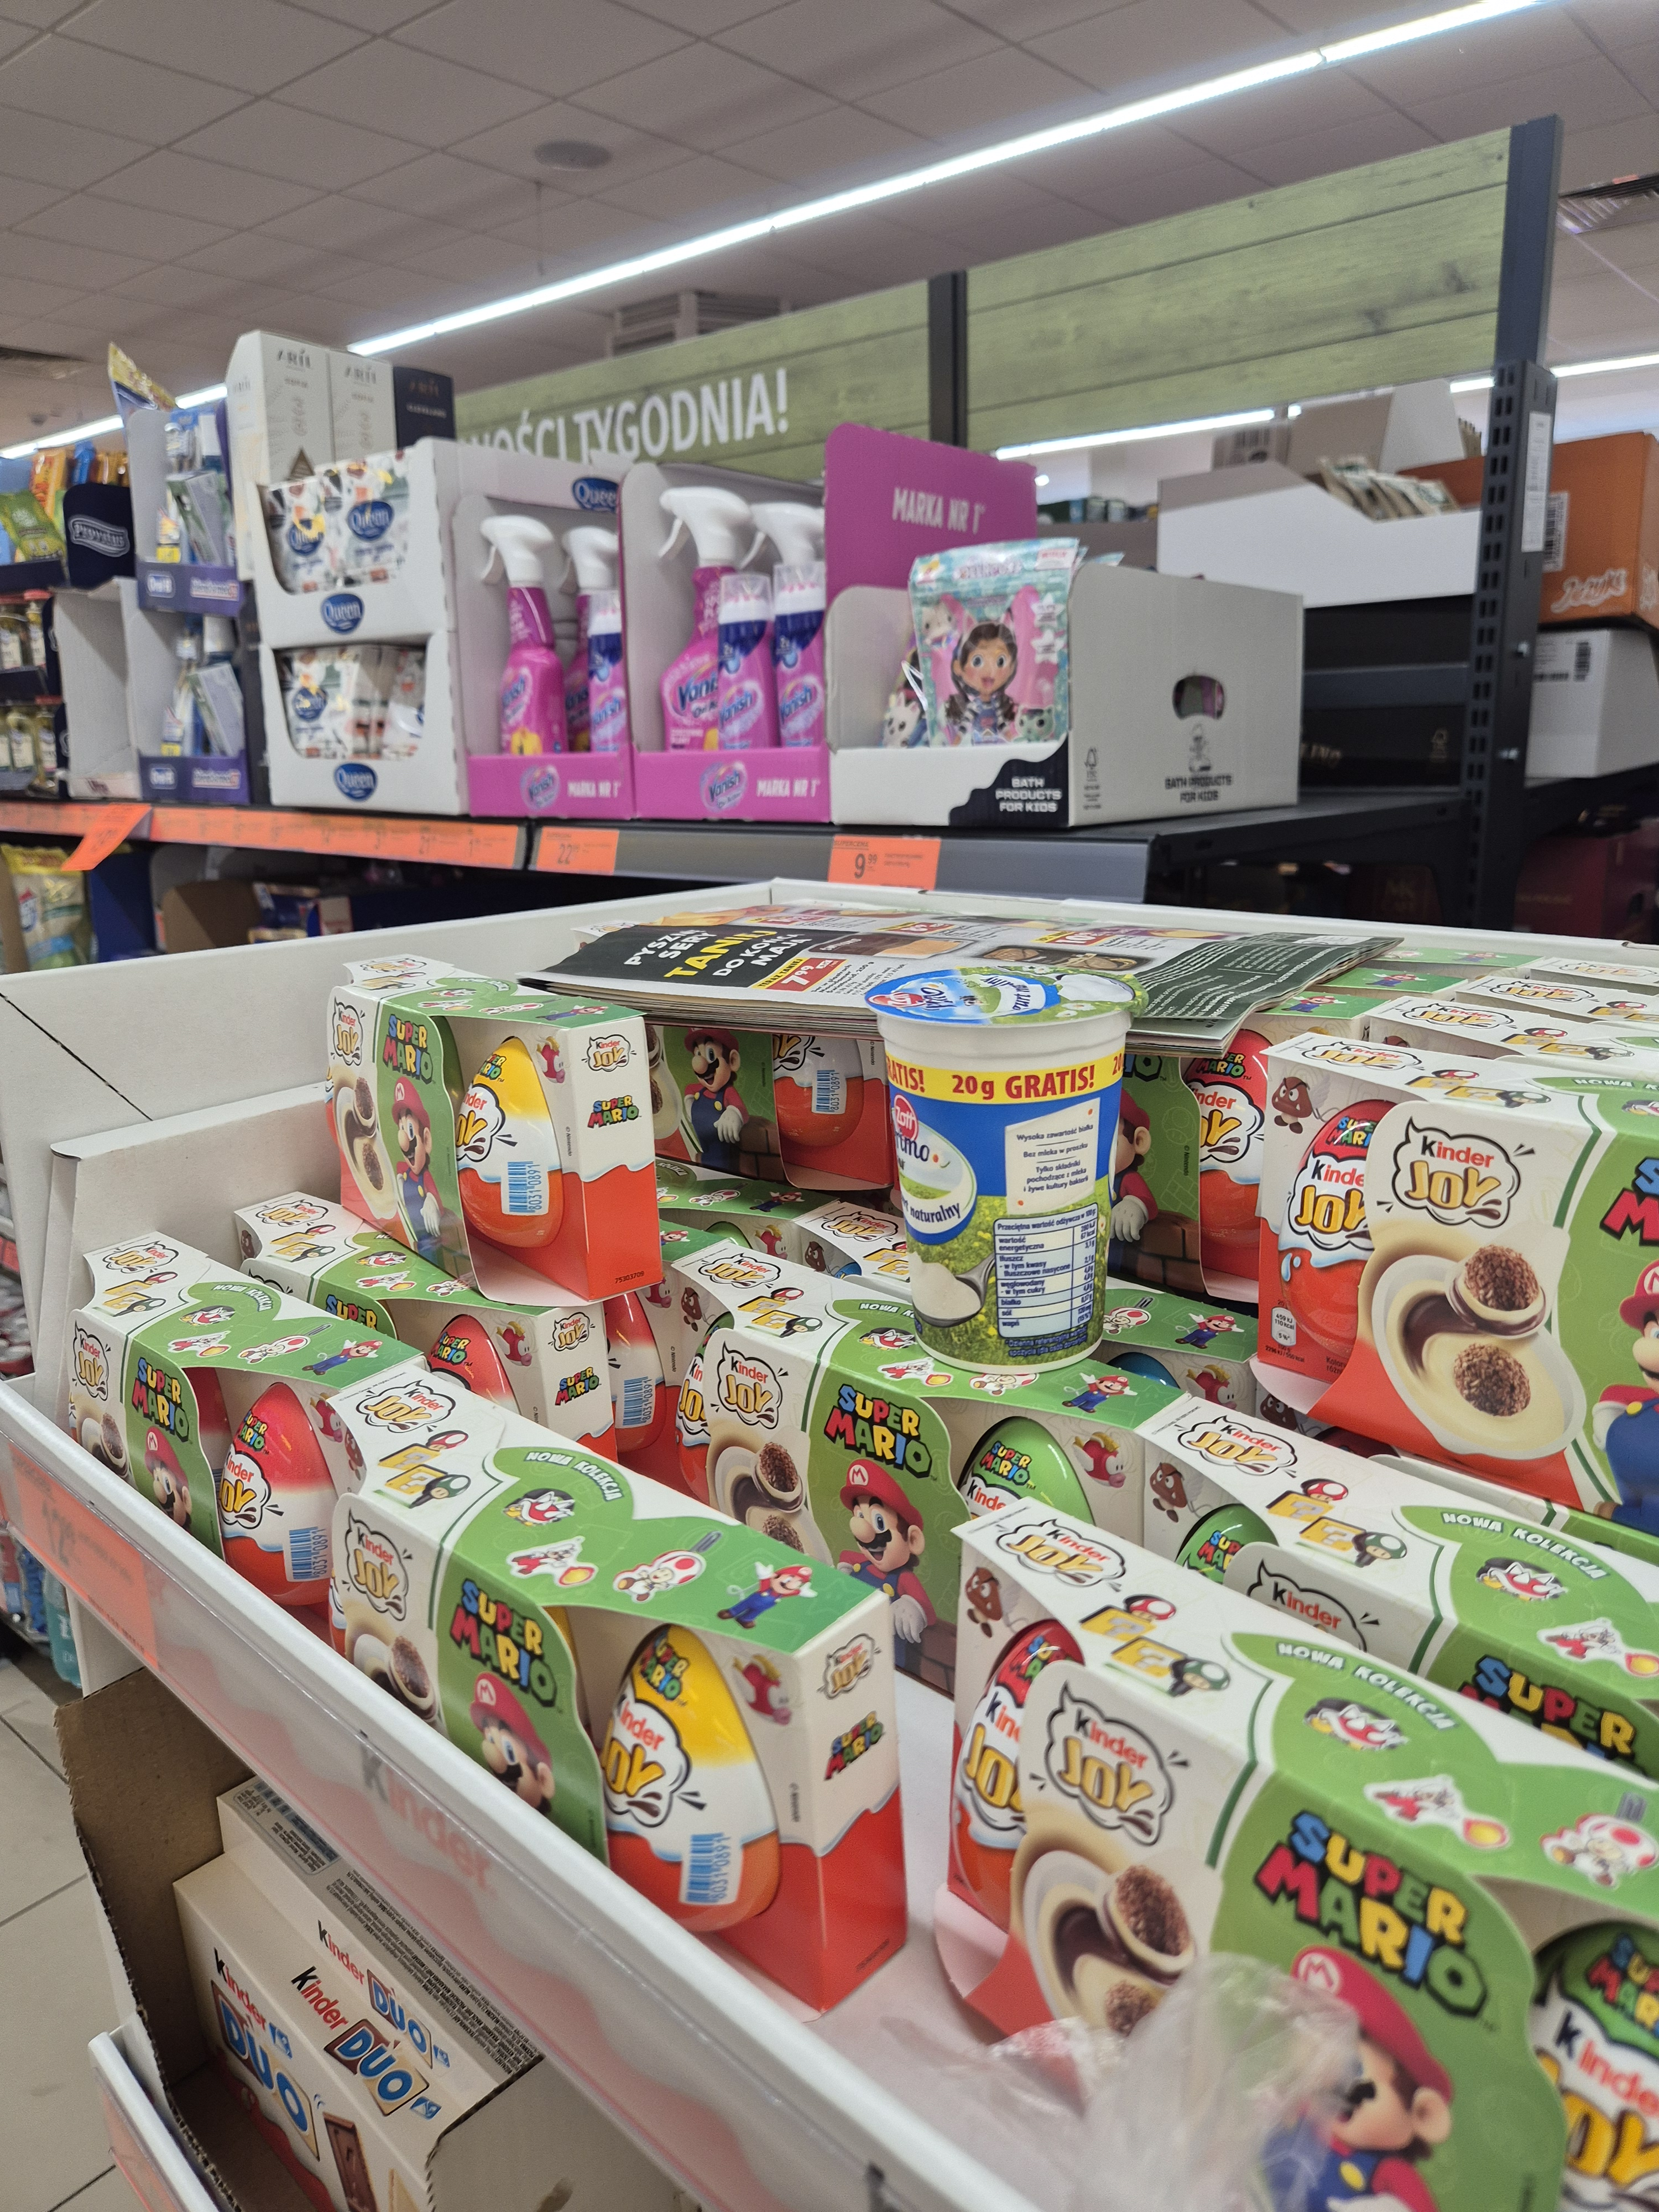Yogurt: (870, 951, 1147, 1374)
